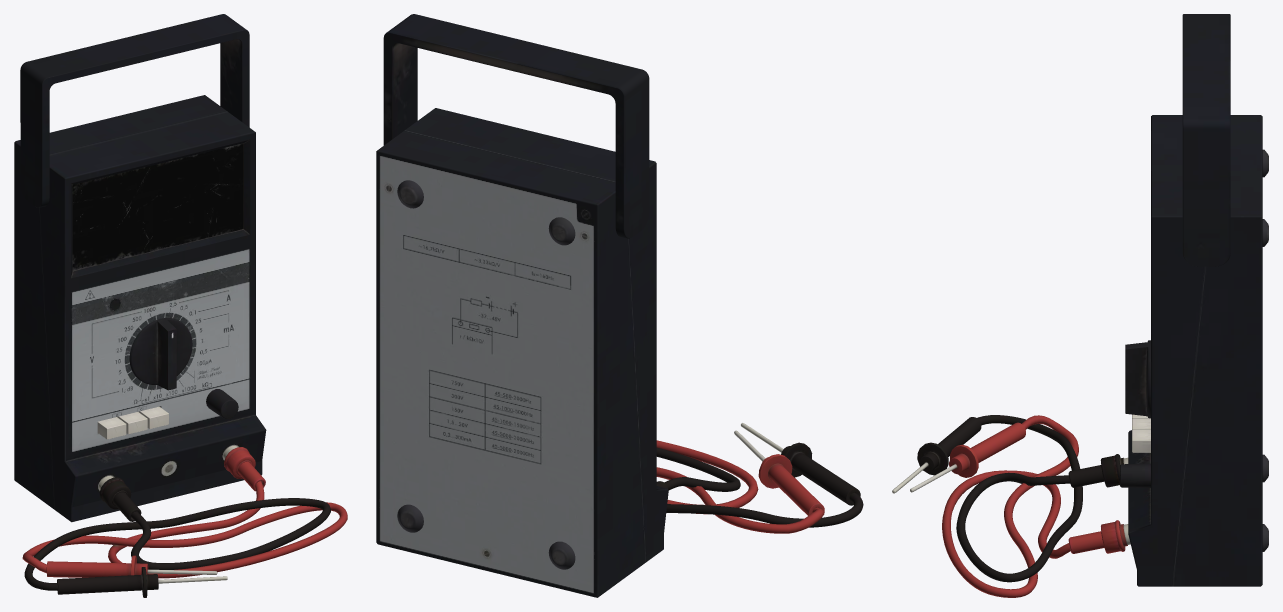
The model's file is multimeter.glb.
3 views of the same model, side by side, from view 1: azimuth 30°, elevation 25°; view 2: azimuth 150°, elevation 25°; view 3: azimuth 270°, elevation 25° (orthographic). The views are drawn at different scales.
Parts seen in each view (by area): view 1: retro_multimeter_LOD0; view 2: retro_multimeter_LOD0; view 3: retro_multimeter_LOD0.
Part boxes in pixels (x1=…): retro_multimeter_LOD0: x1=14, y1=14, x2=347, y2=597; retro_multimeter_LOD0: x1=376, y1=14, x2=863, y2=597; retro_multimeter_LOD0: x1=892, y1=14, x2=1268, y2=597.
Bounding box in the file's own units: 0.216 × 0.2786 × 0.2026.
Materials: 2 (2 with a texture image).
